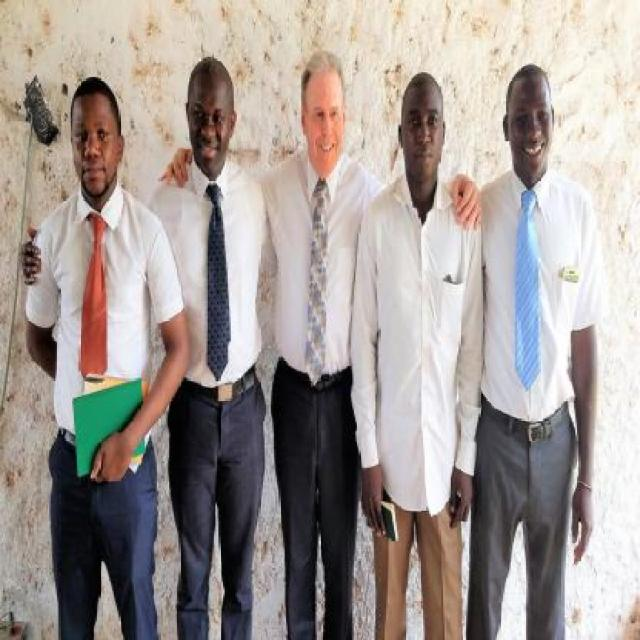sem_oculos: (375, 112, 469, 140), (170, 99, 245, 134), (495, 100, 577, 130), (60, 113, 128, 149), (286, 98, 356, 124)
